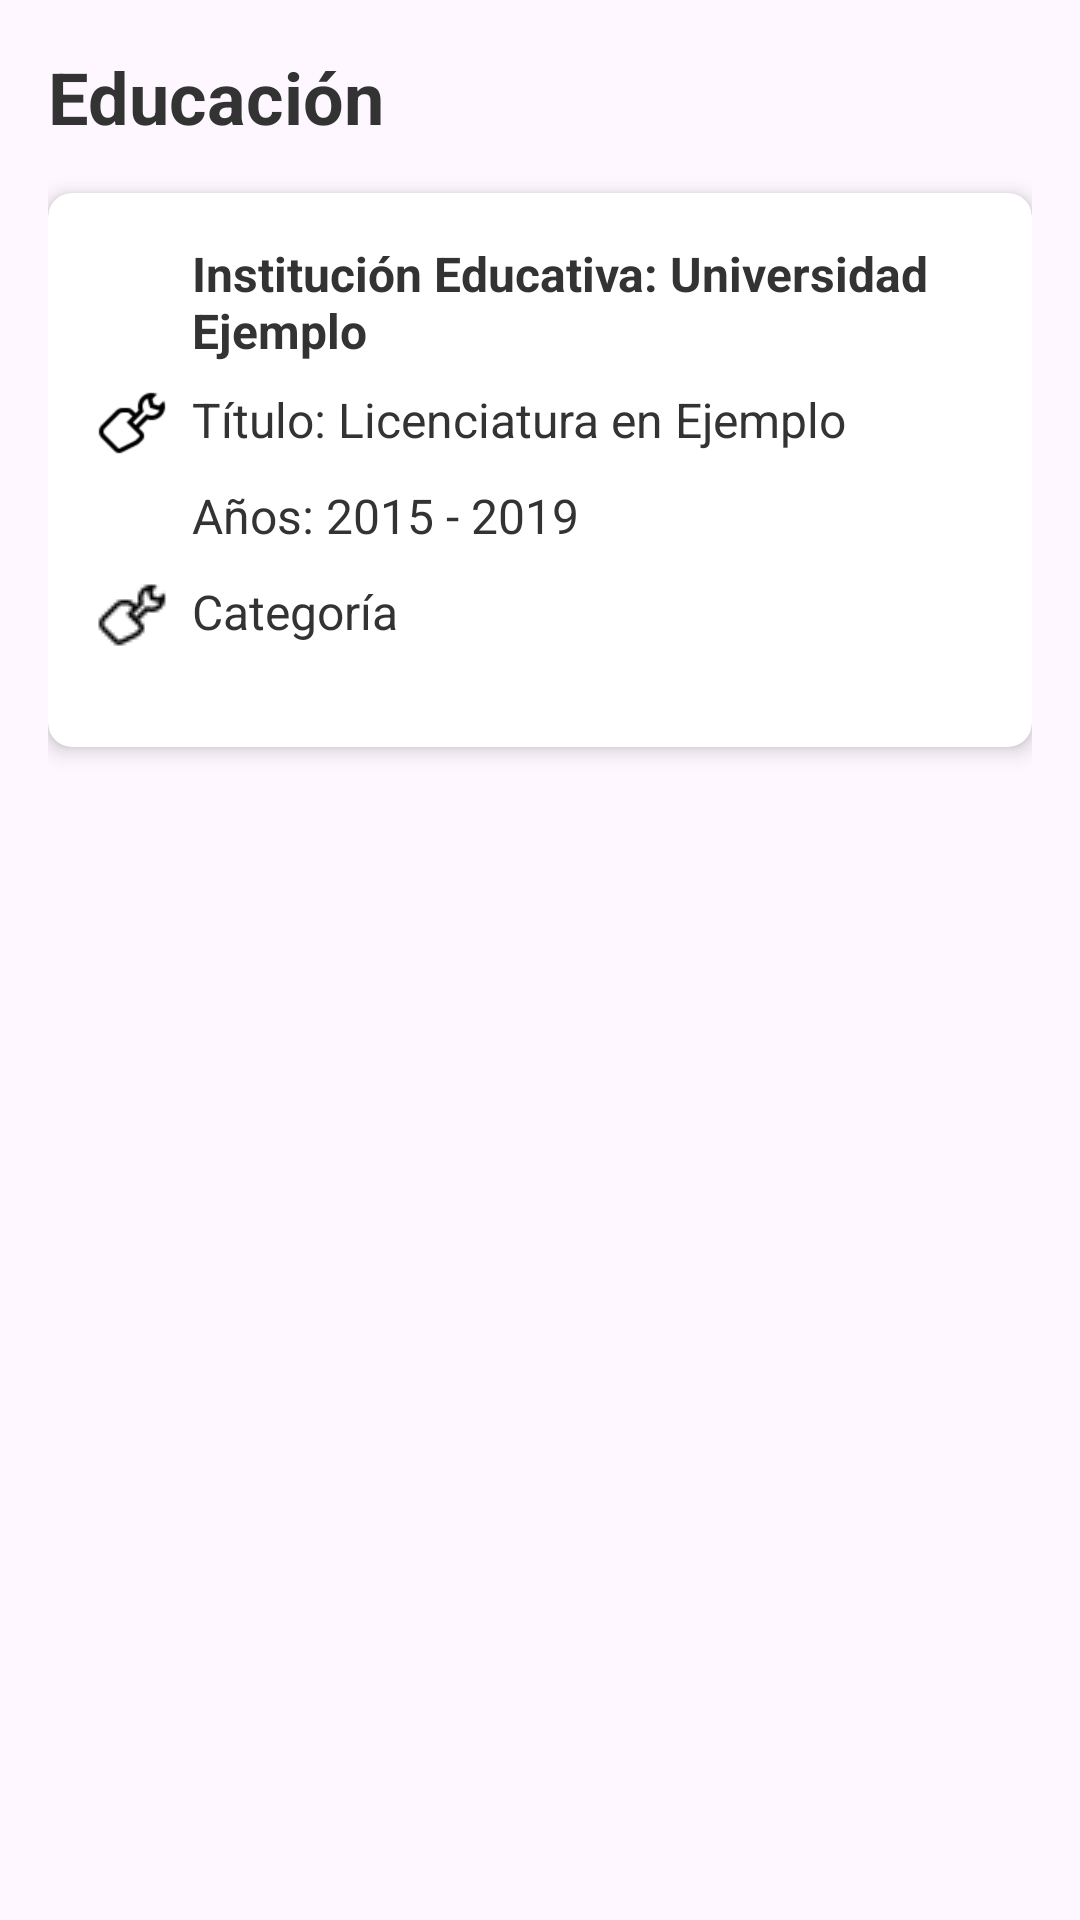

Icon click points for this 1080*1920 phone screenshot, format point (x, y):
icotrabajo: point (132, 423)
